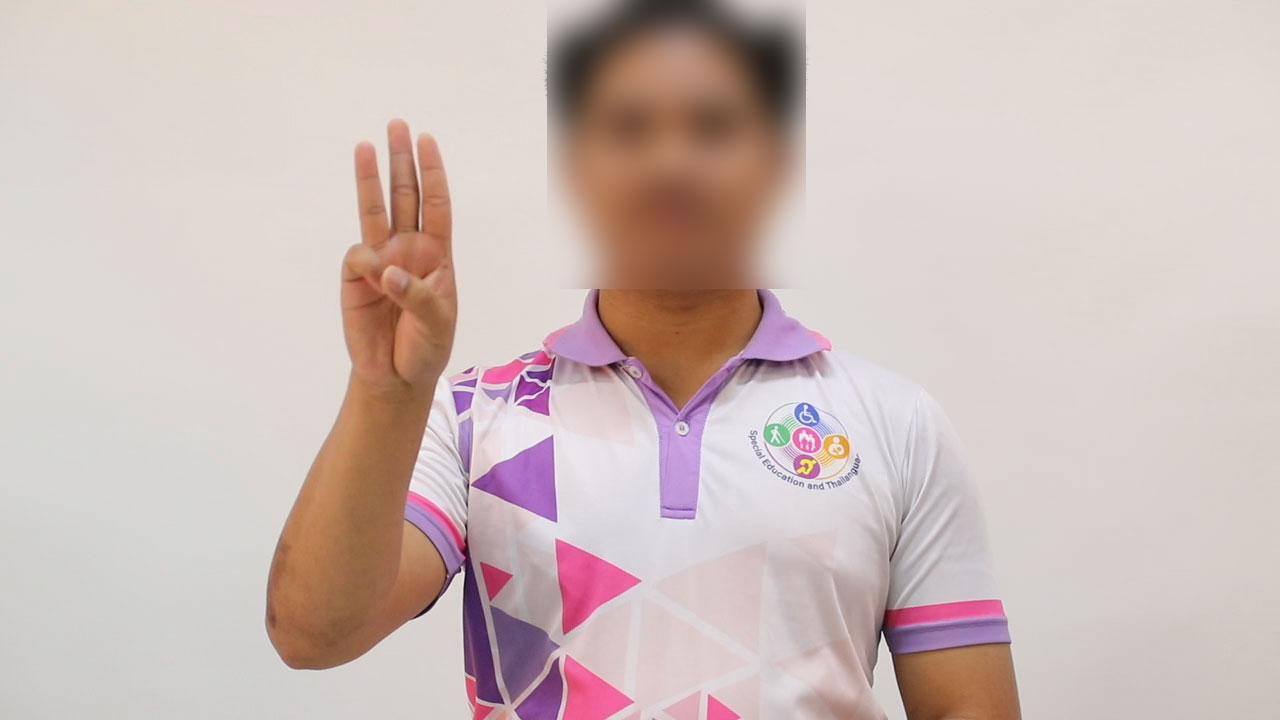wor: (326, 112, 470, 415)
